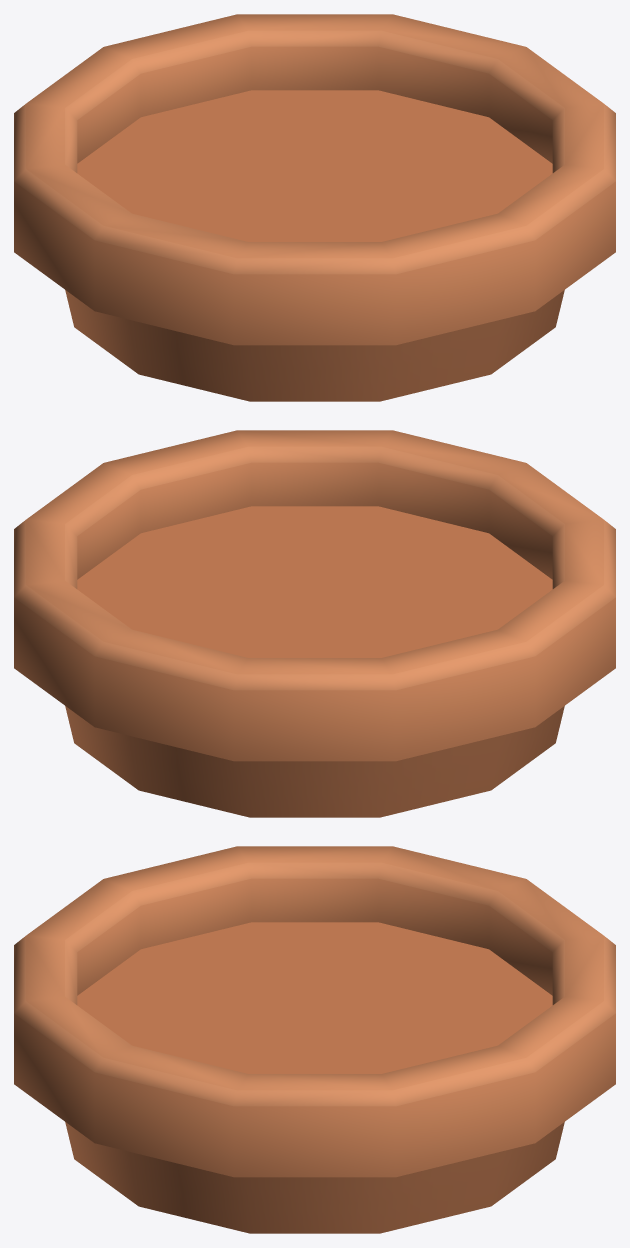
Rendered from house_plants_plants_medium_saucer_2p44qc6b4h.glb.
The picture shows the model from 3 angles, top to bottom: view 1: azimuth 30°, elevation 25°; view 2: azimuth 150°, elevation 25°; view 3: azimuth 270°, elevation 25°; orthographic projection.
Parts seen in each view (by area): view 1: saucer_A_medium; view 2: saucer_A_medium; view 3: saucer_A_medium.
Boxes of the visible parts, x1,y1,x2,y2 form: saucer_A_medium: [14, 14, 615, 401]; saucer_A_medium: [14, 430, 615, 817]; saucer_A_medium: [14, 846, 615, 1233].
Bounding box in the file's own units: 1 × 0.3 × 1.
1 material, 1 textured.
